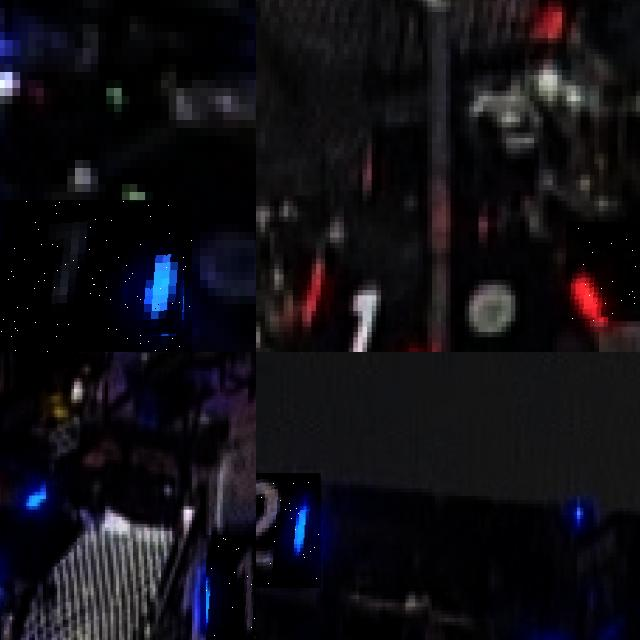B1: (0, 200, 192, 352), (205, 534, 256, 640), (0, 456, 51, 509)
B2: (256, 473, 321, 587)
R1: (297, 243, 427, 352), (566, 221, 640, 321)
